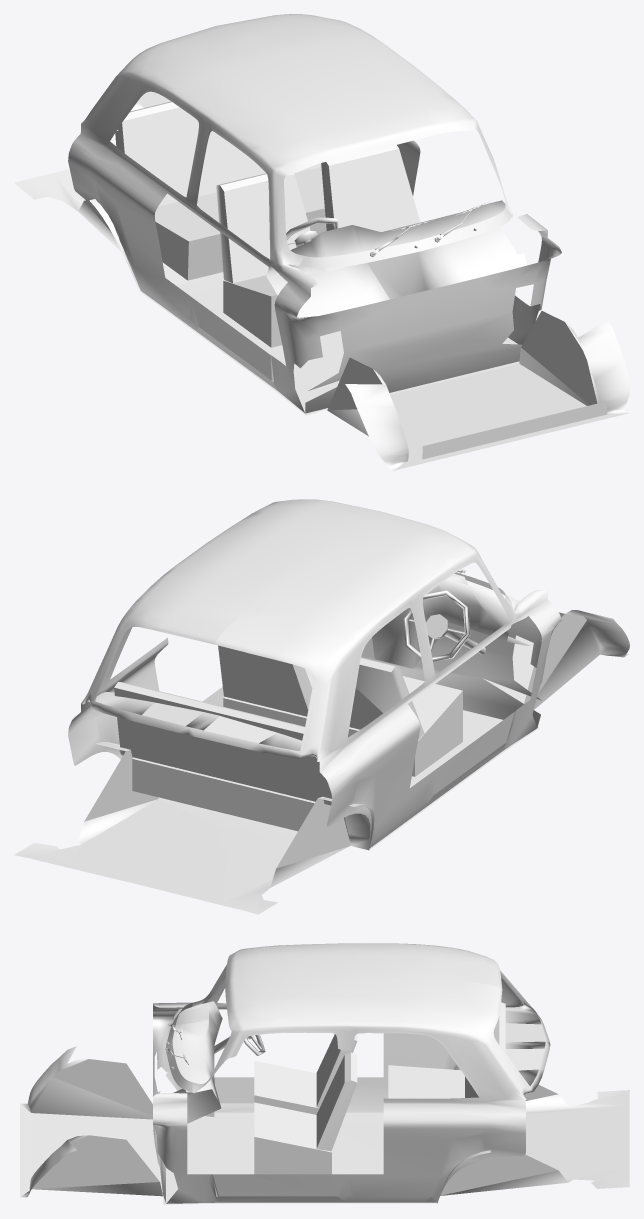
The picture shows the model from 3 angles, top to bottom: view 1: azimuth 30°, elevation 25°; view 2: azimuth 150°, elevation 25°; view 3: azimuth 270°, elevation 25°; orthographic projection. The views are drawn at different scales.
Size of the model in its own units: 1.49 by 1.2 by 3.66.
1 material, 1 textured.
